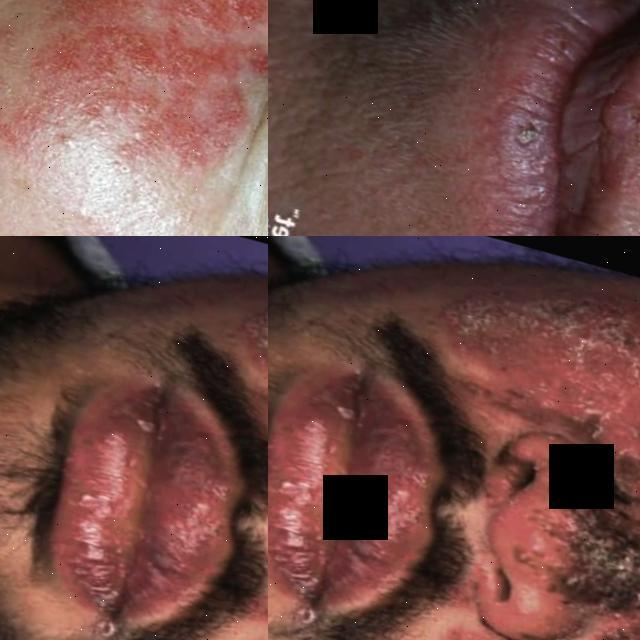lupus-detected: (268, 236, 640, 640), (0, 239, 268, 640), (33, 236, 268, 640), (268, 236, 469, 632), (0, 0, 268, 236), (465, 47, 586, 189), (578, 33, 640, 186), (560, 0, 637, 18)
